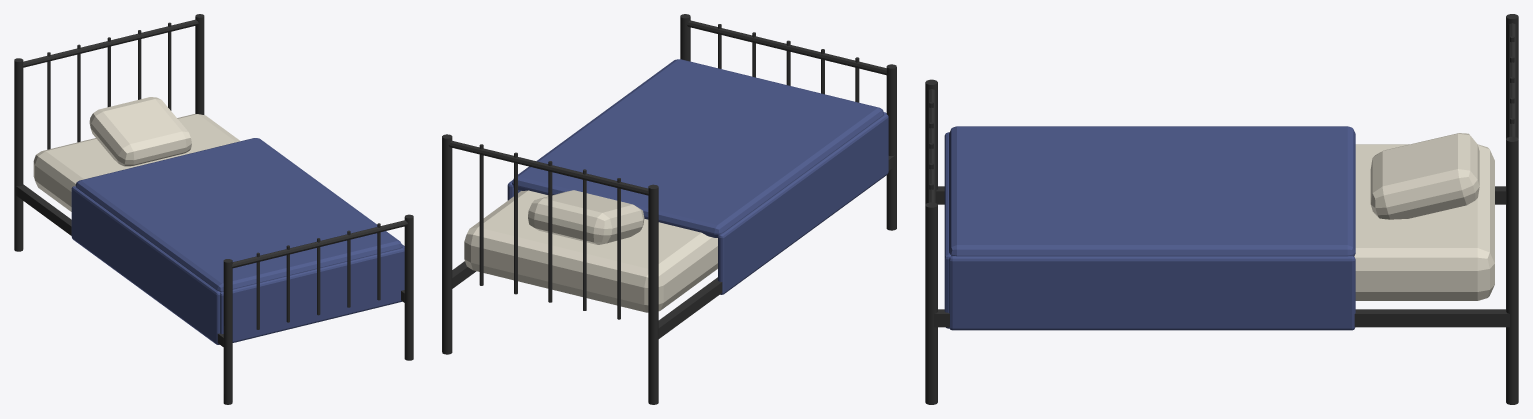
The model's file is bed_single.glb.
The picture shows the model from 3 angles, left to right: view 1: azimuth 30°, elevation 25°; view 2: azimuth 150°, elevation 25°; view 3: azimuth 270°, elevation 25°; orthographic projection. The views are drawn at different scales.
Visible parts, largest first — view 1: bed_single; view 2: bed_single; view 3: bed_single.
Boxes of the visible parts, x1,y1,x2,y2 form: bed_single: (14, 14, 413, 404); bed_single: (442, 14, 896, 404); bed_single: (925, 14, 1518, 404).
Bounding box in the file's own units: 1.05 × 1 × 2.04.
